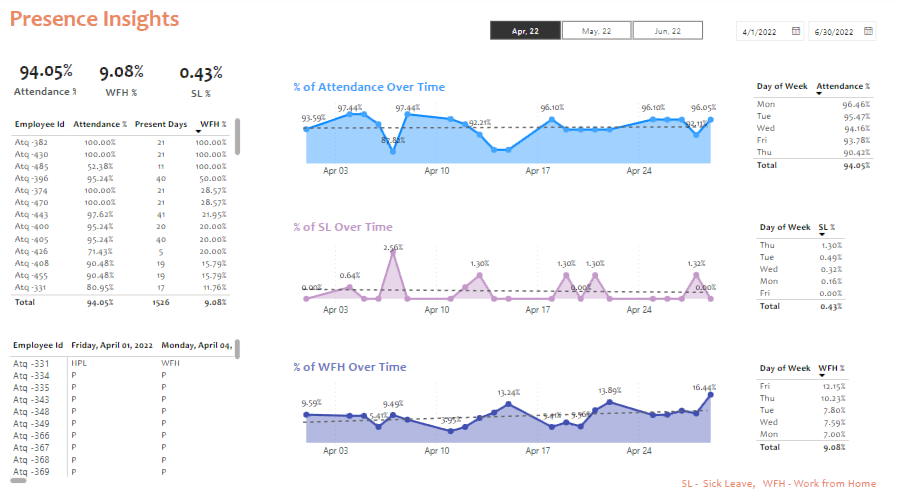

What the dashboard file says about the page in this screenshot:
{"tool":"powerbi","page":{"name":"Page 1","canvas":[1280,720],"ordinal":0},"visuals":[{"type":"card","fields":{"Values":["measure.attendance %"]},"box":[13.4,55.4,112.5,115.9],"z":0},{"type":"card","fields":{"Values":["measure.WFH %"]},"box":[113.4,55.4,127.7,117.6],"z":1000},{"type":"card","fields":{"Values":["Final Data Table.SL %"]},"box":[228.5,58.8,120.9,112.5],"z":2000},{"type":"slicer","fields":{"Values":["Final Data Table.MMM YY"]},"box":[672,28.2,350.1,38.1],"z":3000},{"type":"tableEx","fields":{"Values":["Final Data Table.Employee Id","measure.attendance %","measure.present_days","measure.WFH %"]},"box":[15.5,166.6,334.6,278.1],"z":4000},{"type":"pivotTable","fields":{"Rows":["Final Data Table.Employee Id"],"Values":["Min(Final Data Table.Value)"],"Columns":["Final Data Table.Date"]},"box":[13.4,478.7,336,215],"z":5000},{"type":"textbox","box":[13.4,6.7,275.5,53.8],"z":6000},{"type":"slicer","fields":{"Values":["Final Data Table.Date"]},"box":[1032,25.4,224.5,45.2],"z":7000},{"type":"areaChart","title":"% of Attendance Over Time","fields":{"Y":["measure.attendance %"],"Category":["Final Data Table.Date.Variation.Date Hierarchy.Year","Final Data Table.Date.Variation.Date Hierarchy.Quarter","Final Data Table.Date.Variation.Date Hierarchy.Month","Final Data Table.Date.Variation.Date Hierarchy.Day"]},"box":[415.1,115.8,616.9,149.6],"z":8000},{"type":"areaChart","title":"% of SL Over Time","fields":{"Category":["Final Data Table.Date.Variation.Date Hierarchy.Year","Final Data Table.Date.Variation.Date Hierarchy.Quarter","Final Data Table.Date.Variation.Date Hierarchy.Month","Final Data Table.Date.Variation.Date Hierarchy.Day"],"Y":["measure.SL %"]},"box":[415.1,314.1,616.9,148.2],"z":9000},{"type":"areaChart","title":"% of WFH Over Time","fields":{"Category":["Final Data Table.Date.Variation.Date Hierarchy.Year","Final Data Table.Date.Variation.Date Hierarchy.Quarter","Final Data Table.Date.Variation.Date Hierarchy.Month","Final Data Table.Date.Variation.Date Hierarchy.Day"],"Y":["measure.WFH %"]},"box":[415.1,511.1,616.9,149.6],"z":10000},{"type":"tableEx","fields":{"Values":["Final Data Table.day of week","measure.attendance %"]},"box":[1063.1,112.9,189.2,149.6],"z":11000},{"type":"tableEx","fields":{"Values":["Final Data Table.day of week","measure.WFH %"]},"box":[1067.3,511.1,146.8,148.2],"z":12000},{"type":"tableEx","fields":{"Values":["Final Data Table.day of week","measure.SL %"]},"box":[1067.3,312.7,146.8,148.2],"z":13000},{"type":"textbox","box":[962.8,673.4,293.6,38.1],"z":14000}]}

Visuals, with their boxes in screenshot pixels (x1, y1, x2, y2), scaled from the page's 1280x720 canvas onto the 899x497 screenshot:
card - measure.attendance %: box=[9, 38, 88, 118]
card - measure.WFH %: box=[80, 38, 169, 119]
card - Final Data Table.SL %: box=[160, 41, 245, 118]
slicer - Final Data Table.MMM YY: box=[472, 19, 718, 46]
tableEx - Final Data Table.Employee Id x measure.attendance %: box=[11, 115, 246, 307]
pivotTable - Final Data Table.Employee Id x Min(Final Data Table.Value): box=[9, 330, 245, 479]
textbox: box=[9, 5, 203, 42]
slicer - Final Data Table.Date: box=[725, 18, 882, 49]
"% of Attendance Over Time" areaChart: box=[292, 80, 725, 183]
"% of SL Over Time" areaChart: box=[292, 217, 725, 319]
"% of WFH Over Time" areaChart: box=[292, 353, 725, 456]
tableEx - Final Data Table.day of week x measure.attendance %: box=[747, 78, 880, 181]
tableEx - Final Data Table.day of week x measure.WFH %: box=[750, 353, 853, 455]
tableEx - Final Data Table.day of week x measure.SL %: box=[750, 216, 853, 318]
textbox: box=[676, 465, 882, 491]
